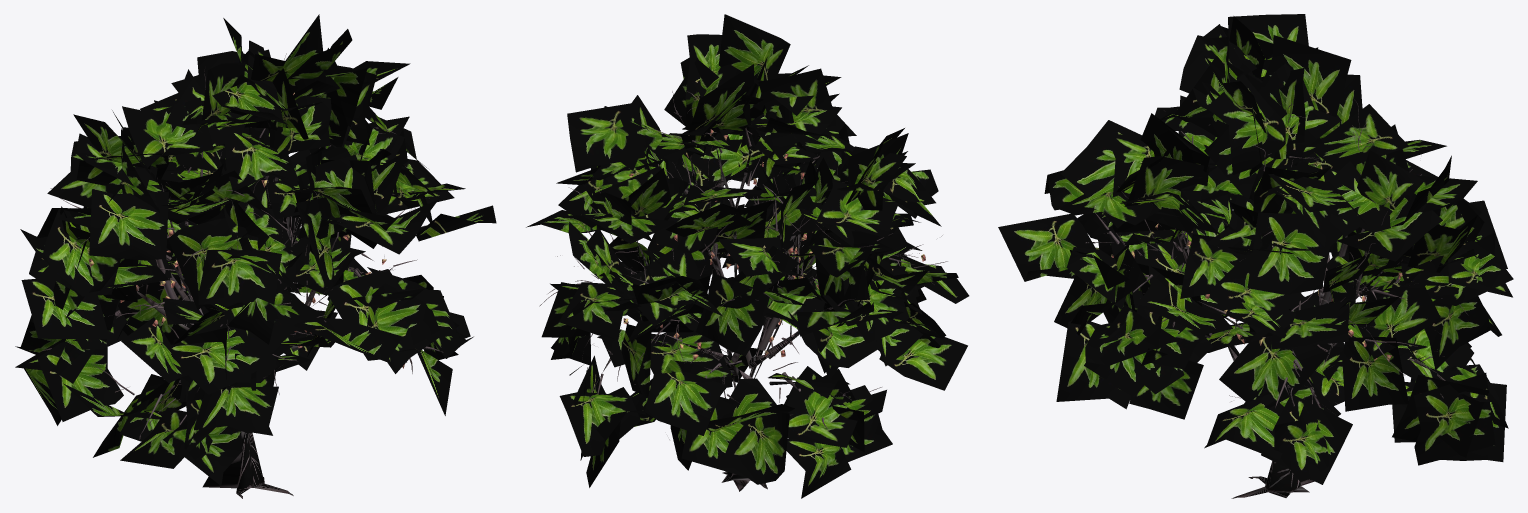
Rendered from mango_tree.lod4.glb.
3 renders of one model, left to right at view 1: azimuth 30°, elevation 25°; view 2: azimuth 150°, elevation 25°; view 3: azimuth 270°, elevation 25°, orthographic. The views are drawn at different scales.
Parts seen in each view (by area): view 1: leaves_Material.001_0, tree_Material.002_0; view 2: leaves_Material.001_0, tree_Material.002_0, tree_Material.004_0; view 3: leaves_Material.001_0, tree_Material.002_0.
Boxes of the visible parts, x1,y1,x2,y2 form: leaves_Material.001_0: (15, 14, 496, 485); tree_Material.002_0: (40, 53, 443, 498); leaves_Material.001_0: (526, 14, 969, 498); tree_Material.002_0: (539, 91, 947, 491); tree_Material.004_0: (623, 129, 925, 360); leaves_Material.001_0: (998, 14, 1513, 484); tree_Material.002_0: (1078, 98, 1467, 498).
Size of the model in its own units: 6.67 by 7.25 by 7.14.
Materials: 3 (3 with a texture image).
